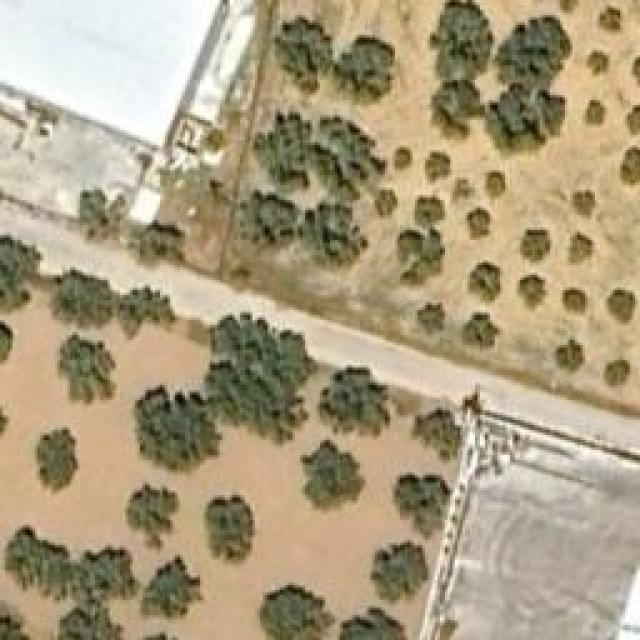Tree: (205, 320, 298, 443), (318, 367, 391, 435), (142, 395, 210, 465), (300, 440, 365, 513), (422, 0, 487, 72), (495, 20, 563, 88), (257, 582, 335, 640), (58, 333, 118, 408), (2, 530, 70, 593), (320, 120, 373, 198), (272, 18, 330, 88), (203, 493, 256, 568), (135, 555, 198, 618), (392, 473, 450, 538), (255, 118, 310, 183), (370, 543, 428, 603), (298, 207, 358, 265), (430, 78, 488, 138), (238, 193, 293, 256), (128, 485, 181, 550), (73, 545, 136, 598), (54, 270, 115, 323), (497, 95, 555, 150), (338, 33, 391, 93), (0, 235, 42, 310), (117, 290, 175, 343), (35, 427, 80, 495), (55, 600, 123, 640), (330, 607, 407, 640), (415, 410, 463, 458), (135, 220, 183, 268), (78, 192, 123, 240), (458, 312, 501, 350), (468, 260, 503, 305), (460, 207, 493, 245), (518, 275, 548, 315), (605, 287, 635, 325), (575, 50, 613, 78), (555, 338, 585, 373), (415, 195, 443, 228), (520, 230, 550, 260), (417, 303, 445, 333), (395, 233, 423, 263), (620, 147, 640, 185), (450, 177, 475, 205), (0, 612, 25, 640), (560, 288, 588, 313), (605, 360, 630, 388), (570, 233, 593, 263), (373, 187, 396, 215), (585, 100, 608, 125), (425, 155, 448, 180), (485, 170, 505, 198), (573, 193, 596, 216), (600, 8, 620, 31), (390, 148, 410, 171), (625, 105, 640, 135)
